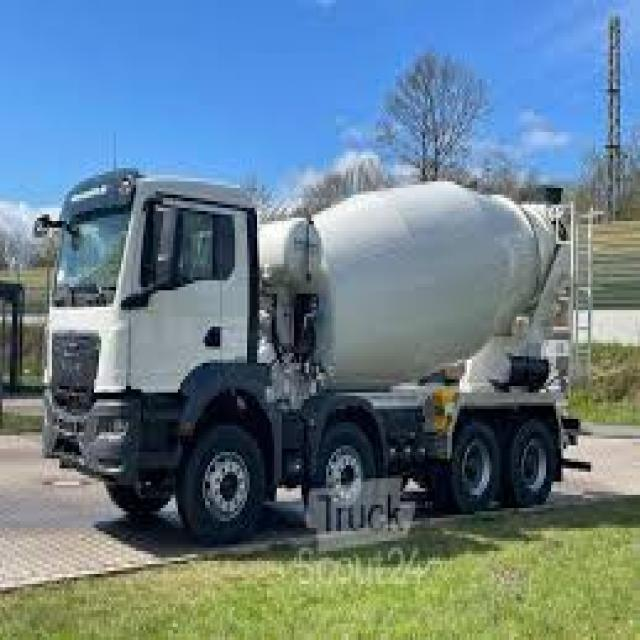Mixer Truck: (31, 164, 606, 545)
